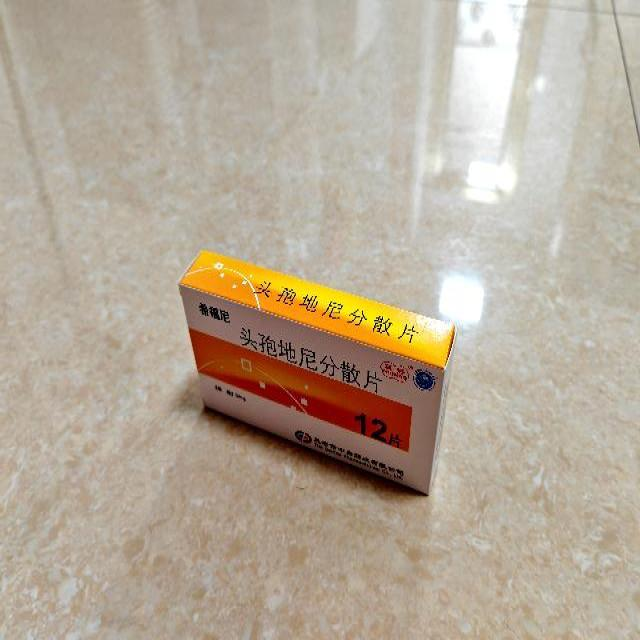box: (178, 248, 456, 498)
